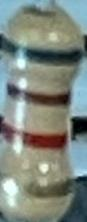Brown: (5, 80, 70, 110)
Green: (2, 32, 85, 70)
Red: (0, 118, 68, 153)
Side-Silver: (0, 168, 77, 201)
